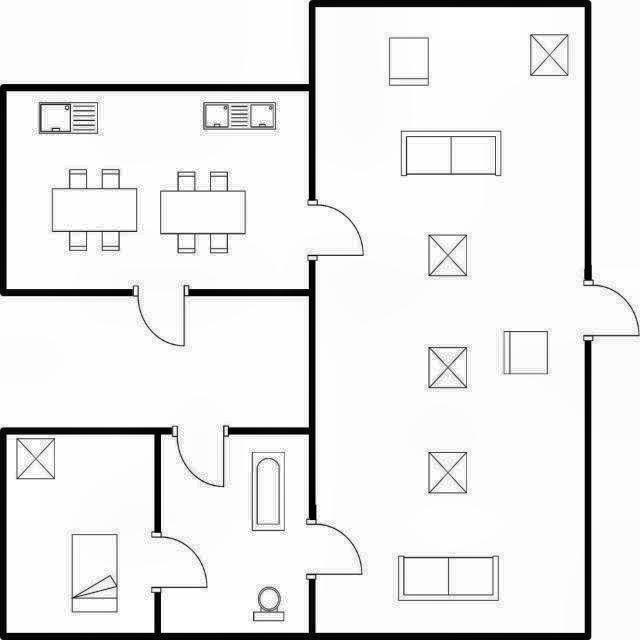room: (314, 7, 586, 633), (7, 90, 308, 289), (160, 434, 309, 632), (6, 435, 154, 633)
